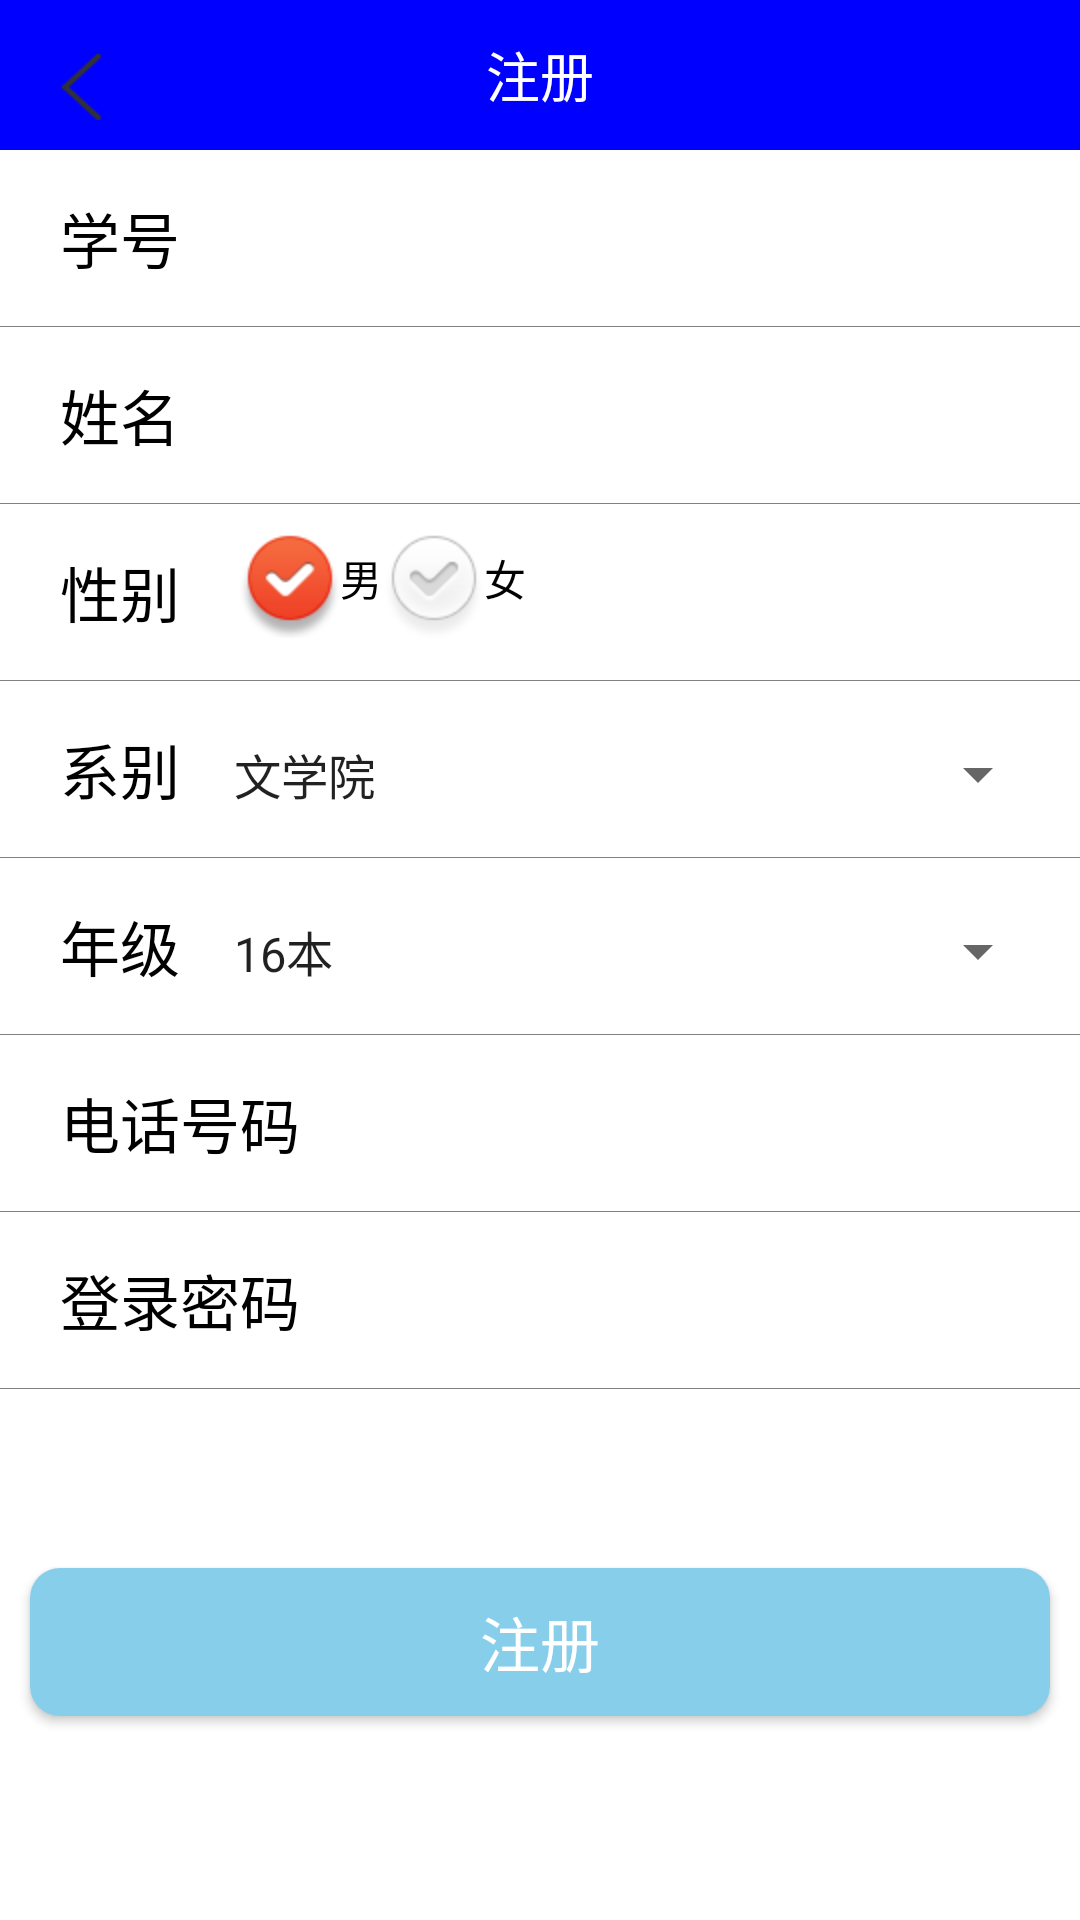

Screen size 1080*1920. Icon name, then its center in pixels as point (x, y):
back: point (82, 87)
